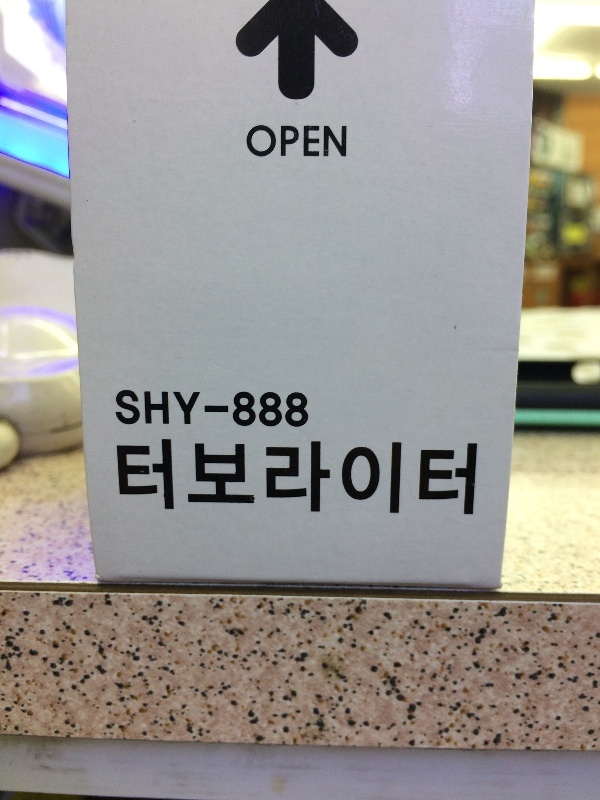text: (465, 436, 481, 519), (129, 436, 144, 519), (145, 436, 160, 519), (161, 436, 176, 519), (177, 436, 192, 519), (193, 436, 208, 519), (209, 436, 224, 519), (225, 436, 240, 519), (241, 436, 256, 519), (257, 436, 272, 519), (273, 436, 288, 519), (289, 436, 304, 519), (305, 436, 320, 519), (321, 436, 336, 519), (337, 436, 352, 519), (353, 436, 368, 519), (369, 436, 384, 519), (385, 436, 400, 519), (401, 436, 416, 519), (417, 436, 432, 519), (433, 436, 448, 519), (449, 436, 464, 519), (115, 436, 128, 519), (129, 382, 144, 434), (145, 382, 160, 434), (161, 382, 176, 434), (177, 382, 192, 434), (193, 382, 208, 434), (209, 382, 224, 434), (225, 382, 240, 434), (241, 382, 256, 434), (257, 382, 272, 434), (273, 382, 288, 434), (289, 382, 304, 434), (114, 382, 128, 434), (257, 121, 272, 161), (273, 121, 288, 161), (289, 121, 304, 161), (305, 121, 320, 161), (321, 121, 336, 161), (337, 121, 350, 161), (245, 121, 256, 161), (305, 382, 310, 434)
